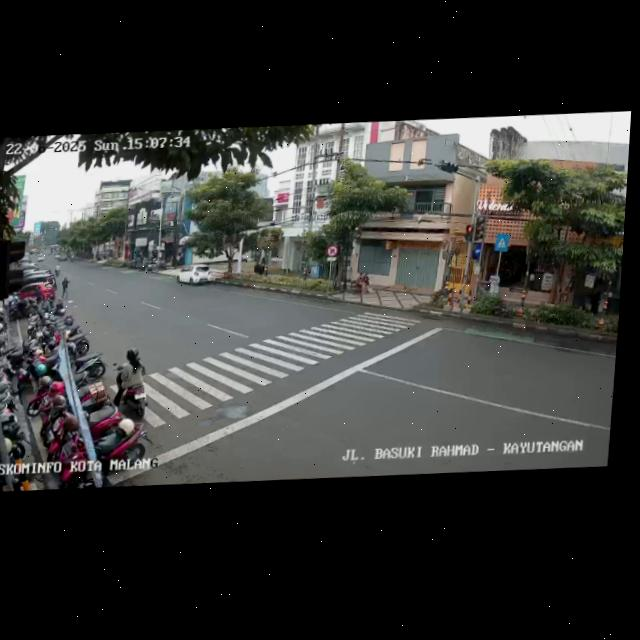car: (175, 259, 220, 286)
motorcycle: (114, 347, 150, 418)
person: (59, 274, 71, 298)
